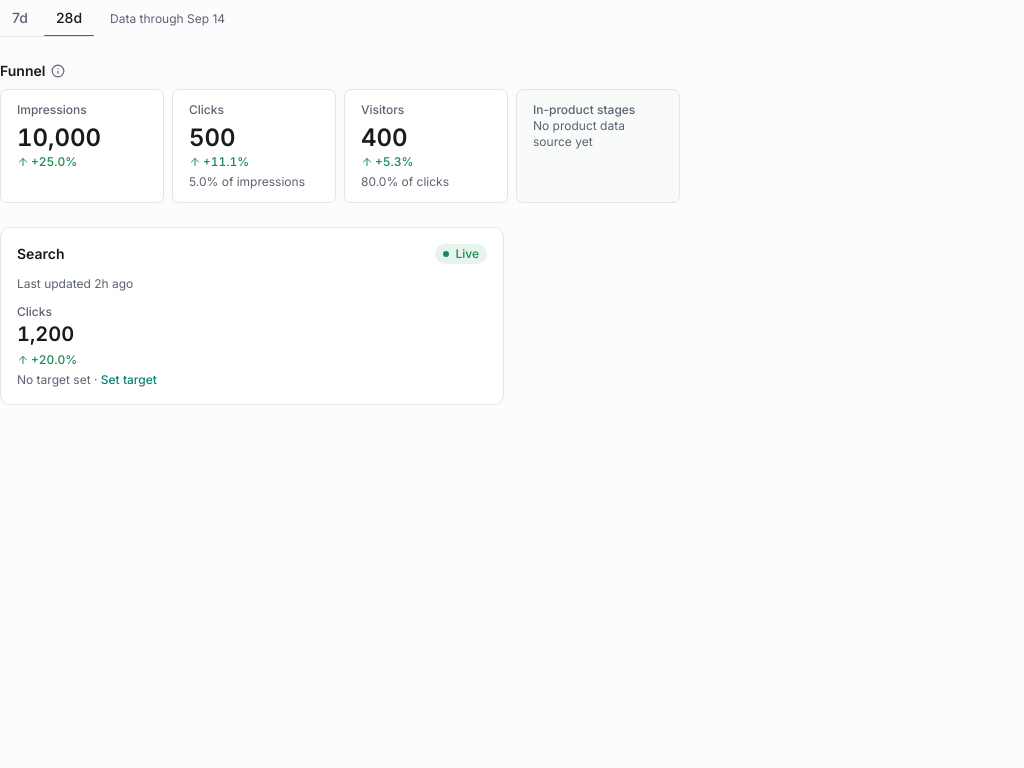
OverviewPanel › reverts the card and shows the server message when saving fails
Click the button with aria-label "Set target for Clicks". click: click(129, 380)
box: [101, 372, 157, 388]
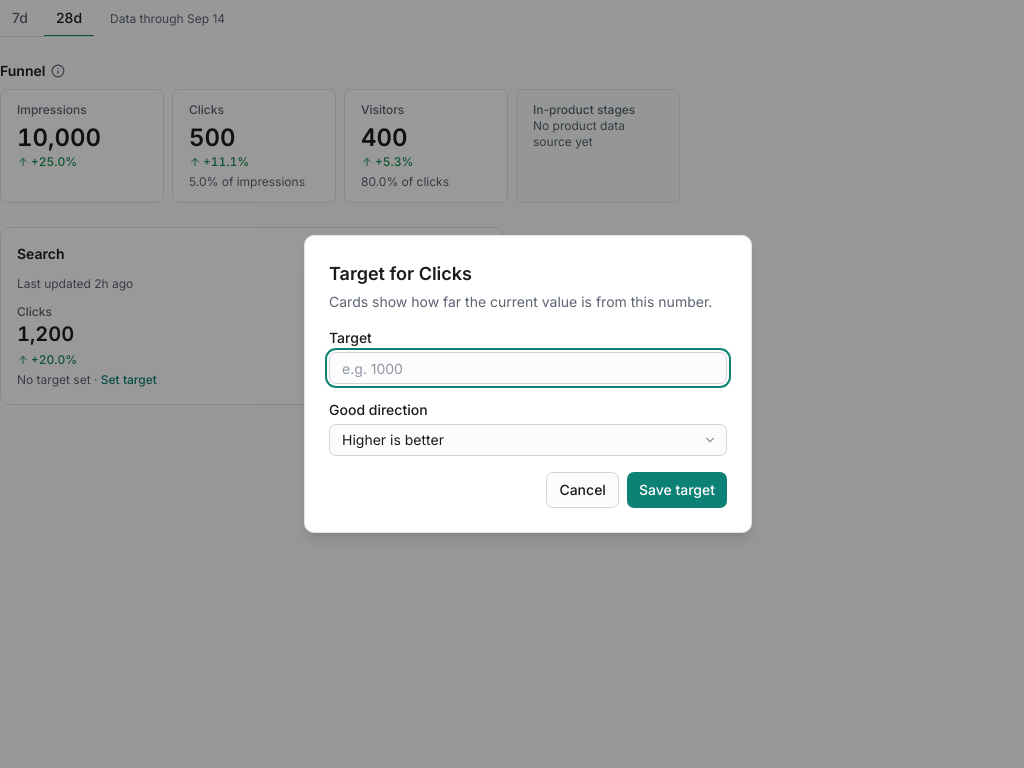
Type "5000" into the field labelled "Target". click: (528, 368)
box: [329, 352, 727, 384]
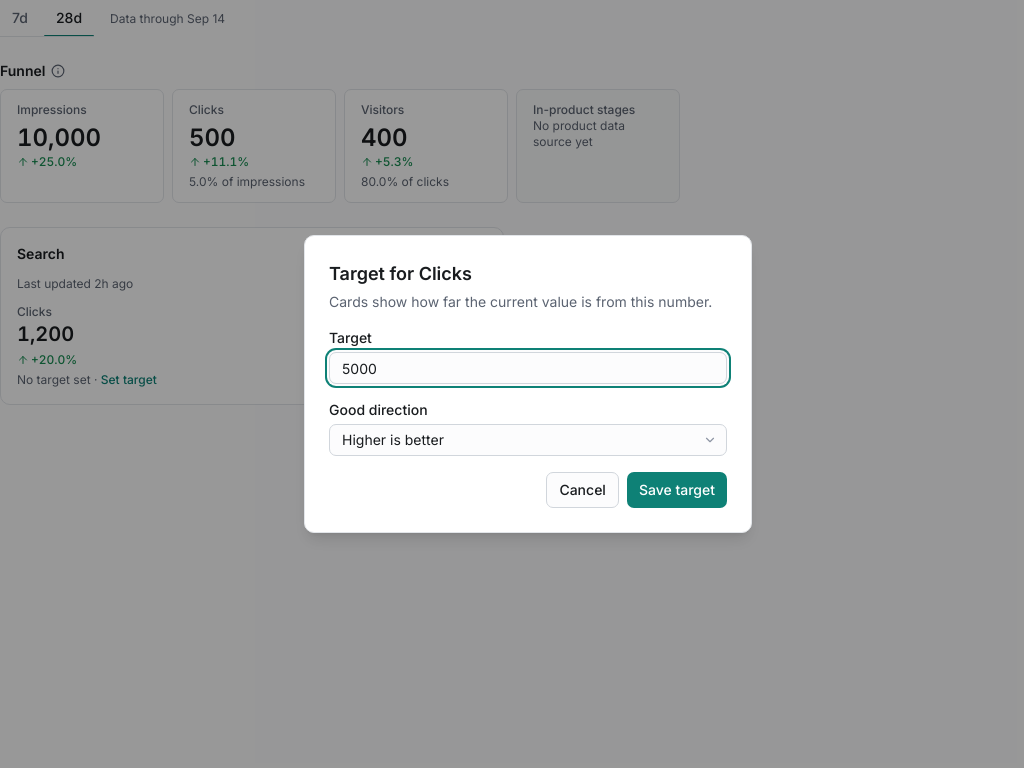
Click the button "Save target". click: click(677, 490)
box: [627, 472, 727, 508]
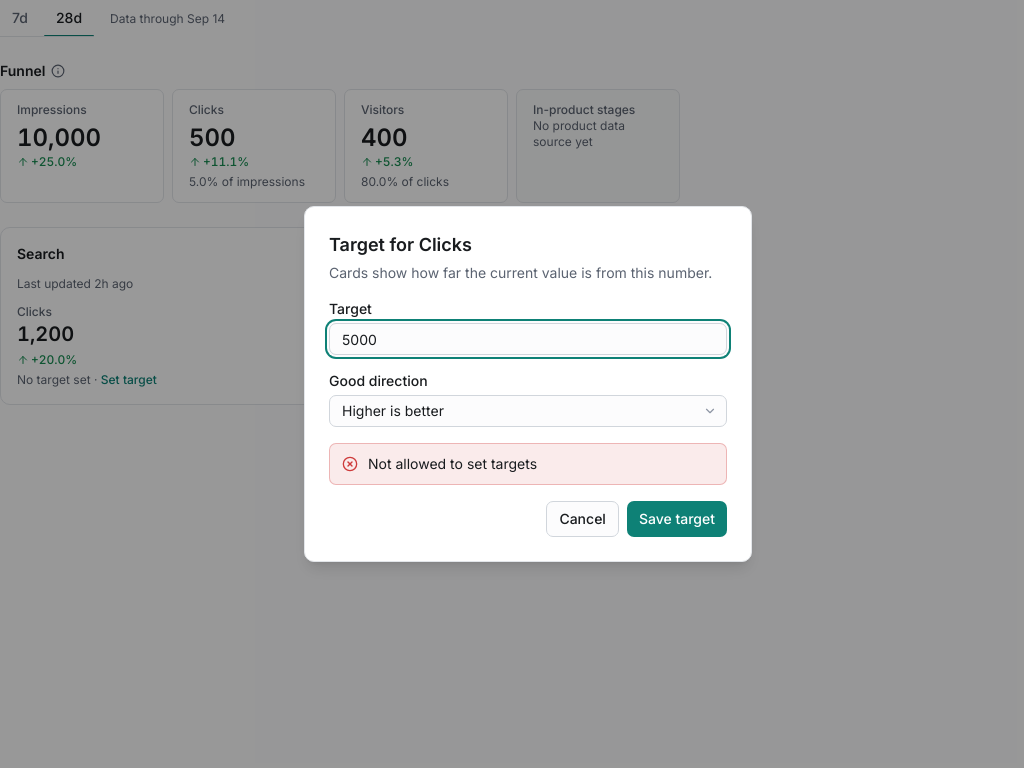
Expected: the text "No target set · Set target" is shown, [17, 372, 157, 388]
Now the text "Not allowed to set targets" is shown, box [368, 454, 537, 474]
